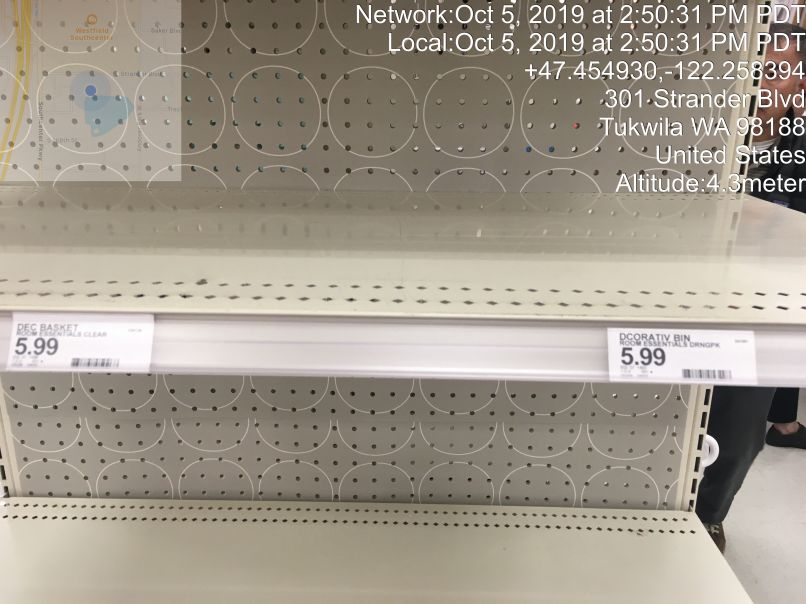Label: (9, 310, 156, 376)
Location: (596, 83, 806, 170)
Time: (353, 3, 806, 59)
Void: (23, 31, 793, 288)
